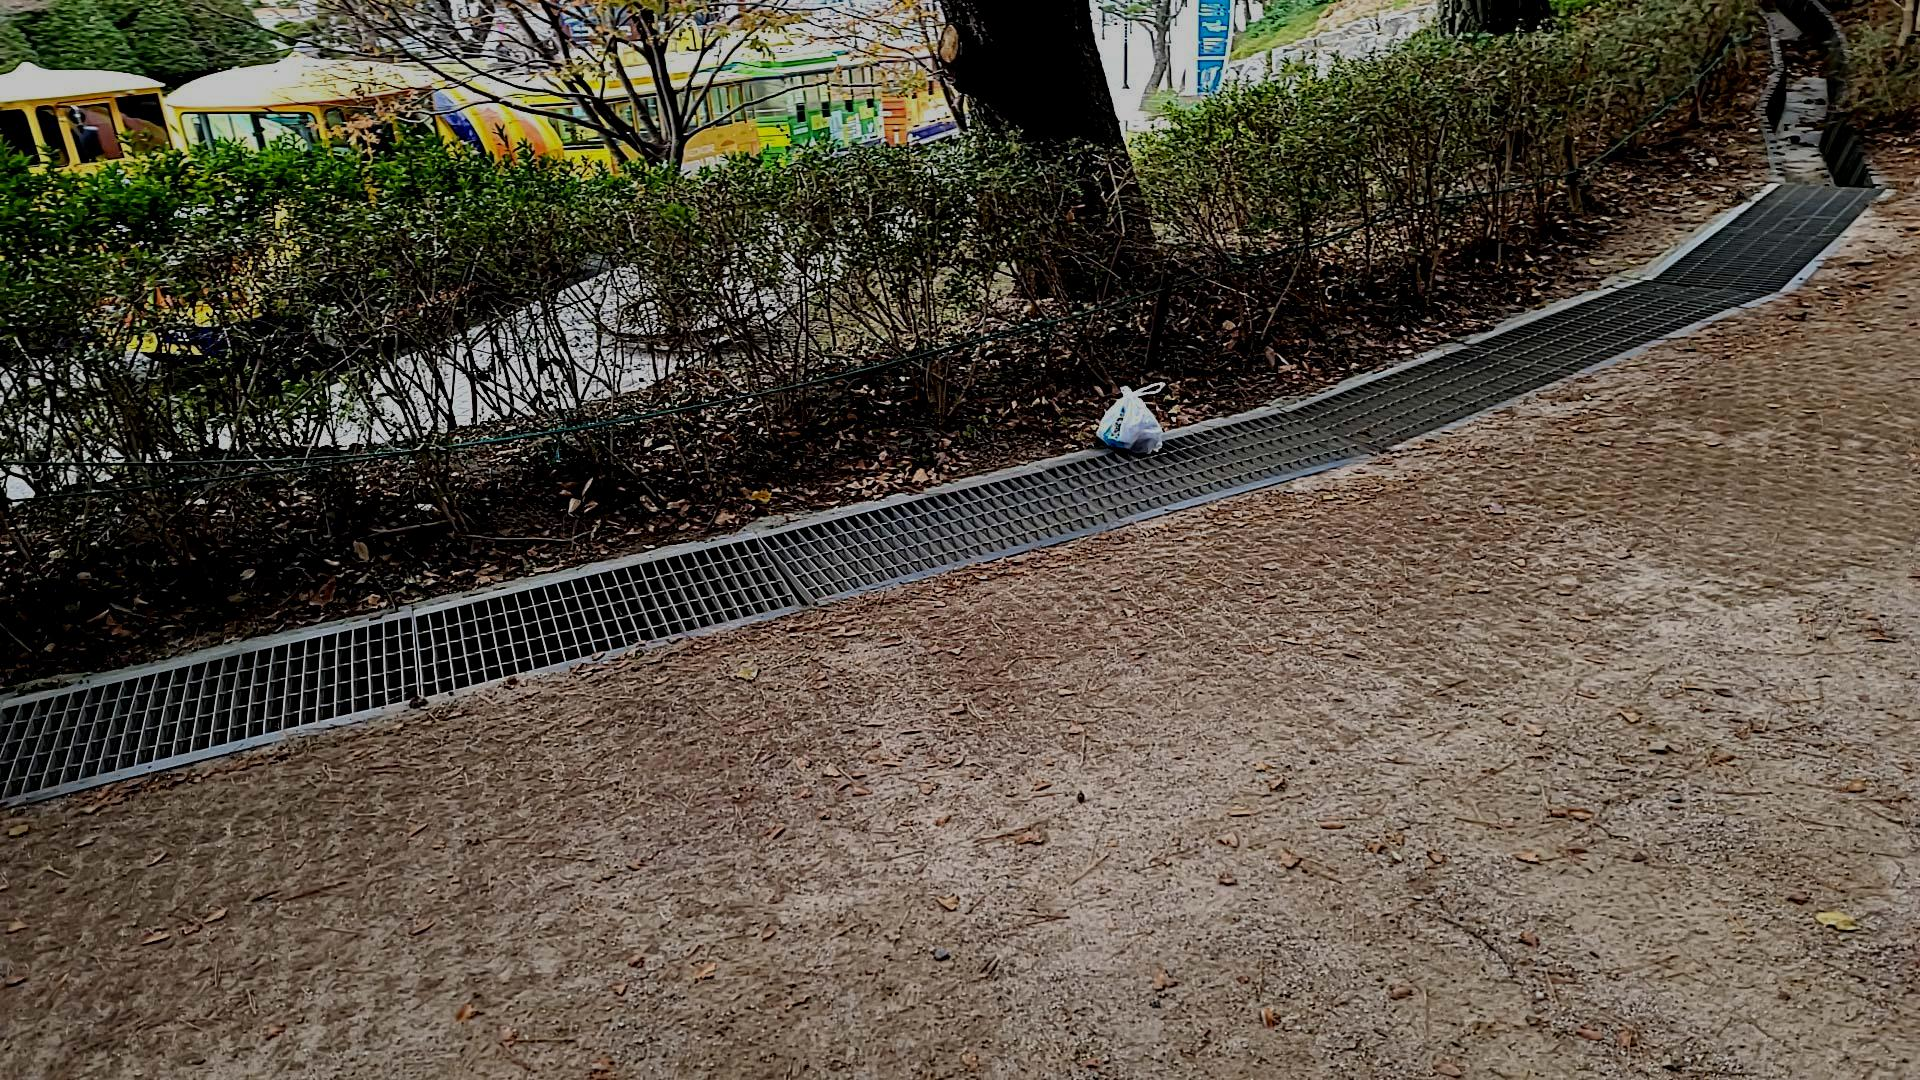white_bag: (1087, 373, 1179, 463)
